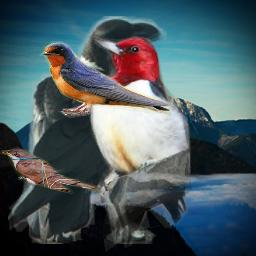Crow: (8, 16, 167, 244)
Cuckoo: (0, 146, 104, 197)
Swallow: (39, 40, 171, 120)
Woodpecker: (85, 36, 194, 254)
